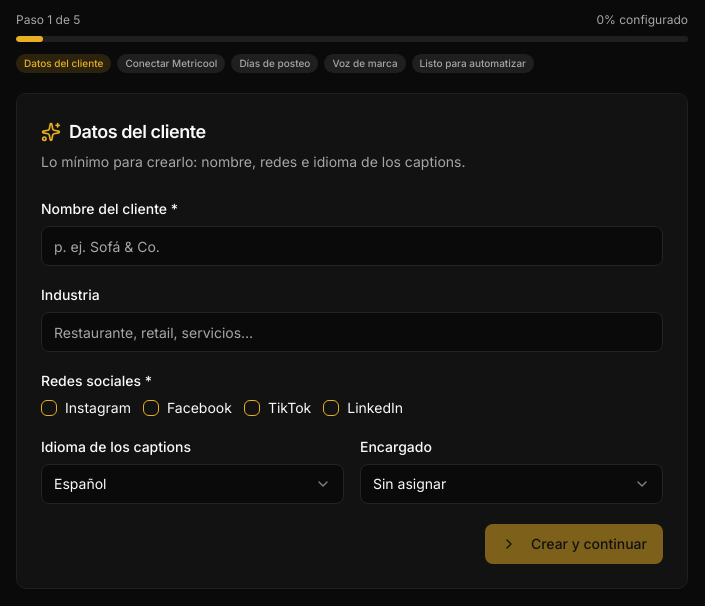
Test: ClientOnboardingWizard › disables create until there is a name and a platform
The width and height of the screenshot is (705, 606).
Expected: the button "Crear y continuar" is disabled, x1=485 y1=524 x2=663 y2=564
Step 1. Type "Acme" into the field with placeholder "p. ej. Sofá & Co." → (352, 246), box x1=41 y1=226 x2=663 y2=266
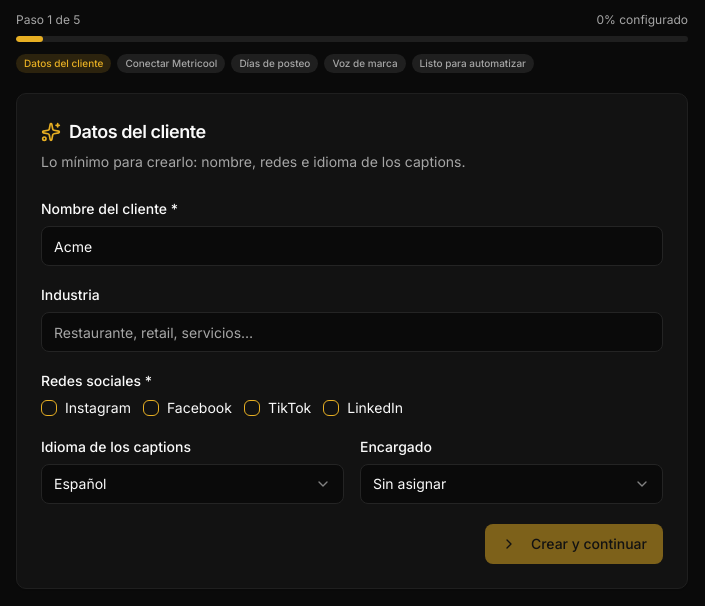
Expected: the button "Crear y continuar" is disabled, x1=485 y1=524 x2=663 y2=564
Step 2. Click the checkbox named "Instagram" next to "Instagram" → (49, 408), box x1=41 y1=400 x2=57 y2=416
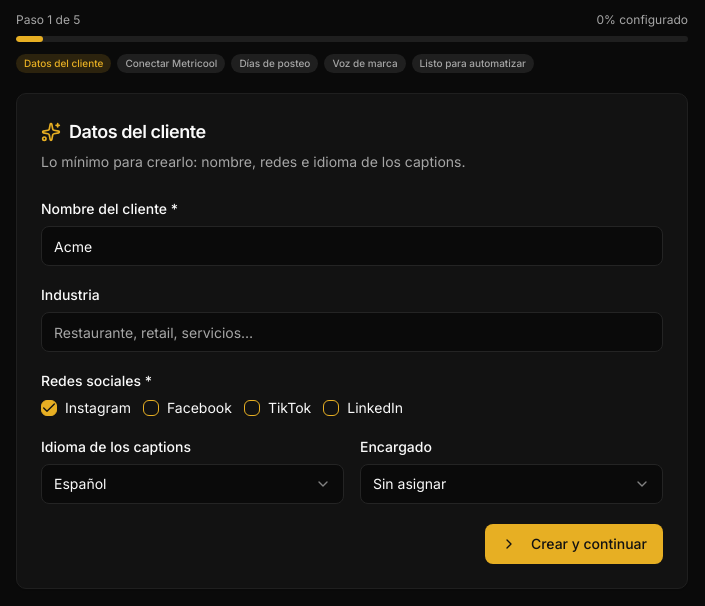
Now the button "Crear y continuar" is enabled, box x1=485 y1=524 x2=663 y2=564
